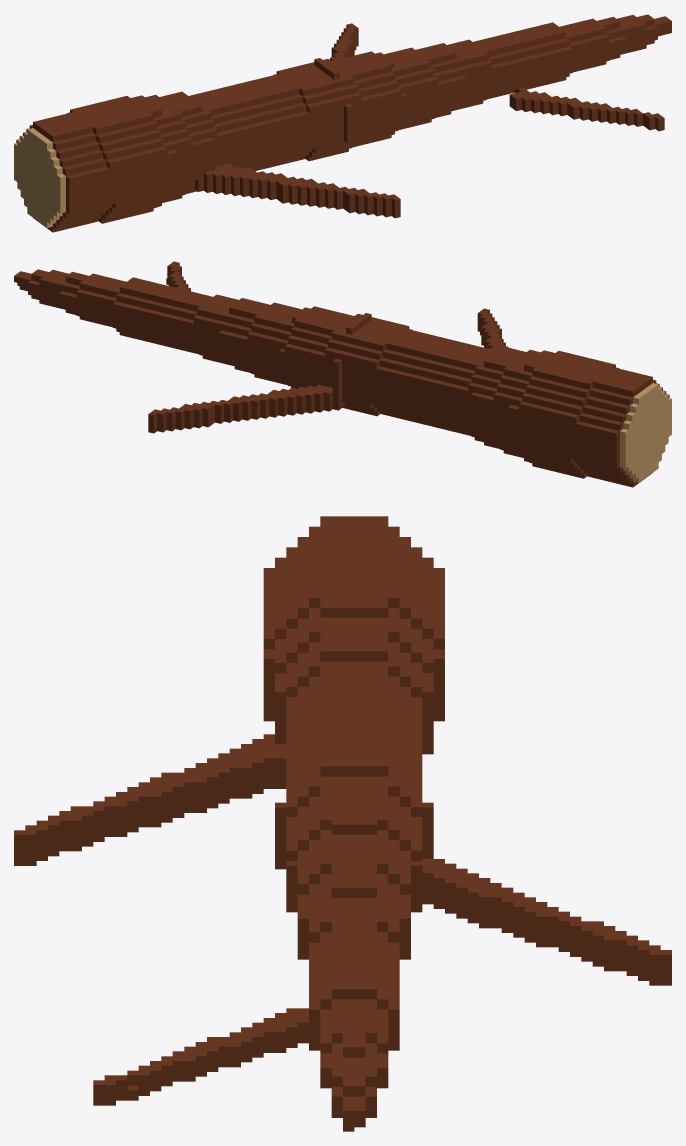
File: sassafras_root.glb
3 views of the same model, one above another, from view 1: azimuth 30°, elevation 25°; view 2: azimuth 150°, elevation 25°; view 3: azimuth 270°, elevation 25° (orthographic). The views are drawn at different scales.
Visible parts, largest first — view 1: sassafras_root:compound; view 2: sassafras_root:compound; view 3: sassafras_root:compound.
Boxes of the visible parts, x1,y1,x2,y2 form: sassafras_root:compound: (14,14,671,232); sassafras_root:compound: (14,261,671,487); sassafras_root:compound: (14,516,671,1131).
Bounding box in the file's own units: 0.22 × 0.032 × 0.116.
